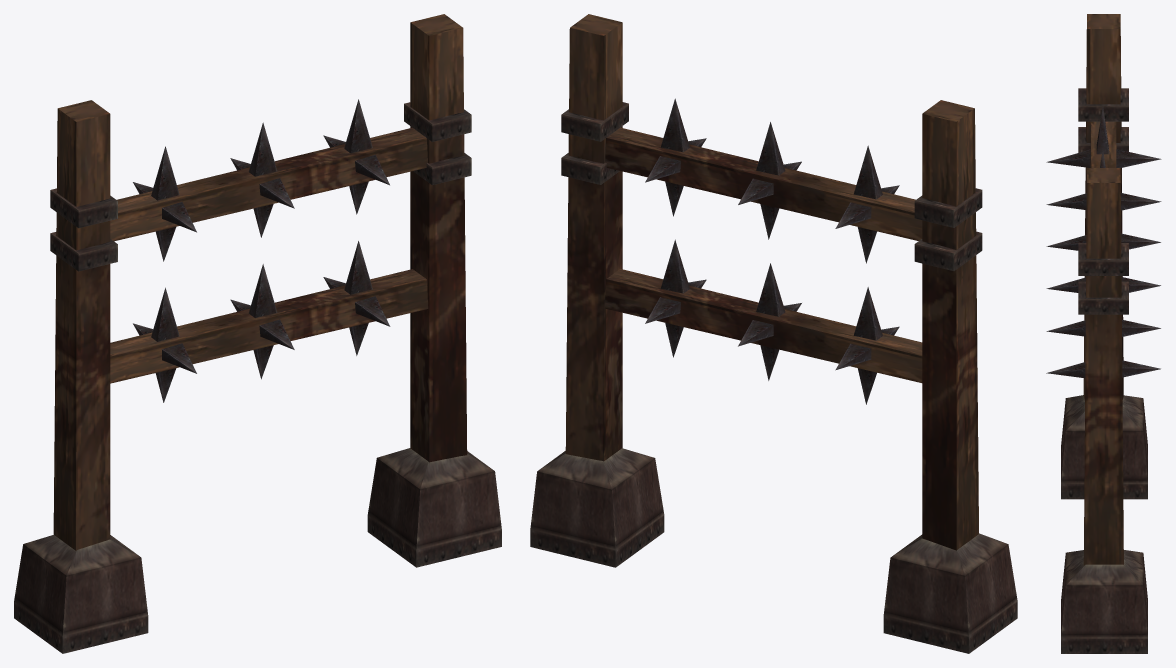
Rendered from blsd_xingju_03.FBX.
3 views of the same model, side by side, from view 1: azimuth 30°, elevation 25°; view 2: azimuth 150°, elevation 25°; view 3: azimuth 270°, elevation 25° (orthographic). The views are drawn at different scales.
Parts seen in each view (by area): view 1: blsd_xingju_03; view 2: blsd_xingju_03; view 3: blsd_xingju_03.
Part boxes in pixels (x1,y1,x2,y2): blsd_xingju_03: [14, 14, 501, 653]; blsd_xingju_03: [530, 14, 1017, 653]; blsd_xingju_03: [1046, 14, 1161, 653].
Size of the model in its own units: 208 by 53.08 by 233.
